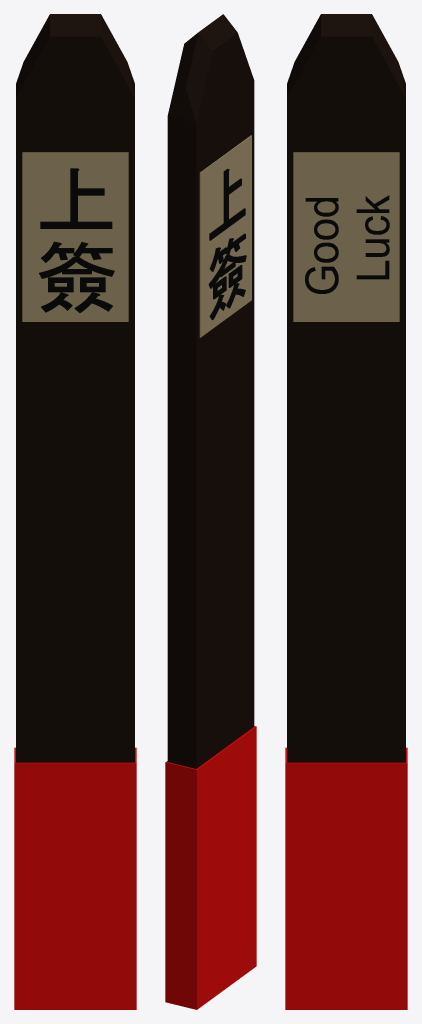
Rendered from goodLuck.fbx.
3 renders of one model, left to right at view 1: azimuth 90°, elevation 25°; view 2: azimuth 150°, elevation 25°; view 3: azimuth 270°, elevation 25°, orthographic. The views are drawn at different scales.
Parts seen in each view (by area): view 1: Line001, Box001, Box002, 加强型文本001; view 2: Line001, Box001, Box002, 加强型文本001; view 3: Line001, Box001, Box002, 加强型文本002.
Boxes of the visible parts, bbox=[...] form: Line001: bbox=[16, 14, 134, 762]; Box001: bbox=[14, 747, 136, 1009]; Box002: bbox=[22, 152, 128, 321]; 加强型文本001: bbox=[39, 168, 114, 312]; Line001: bbox=[167, 14, 254, 768]; Box001: bbox=[165, 726, 256, 1009]; Box002: bbox=[199, 135, 251, 337]; 加强型文本001: bbox=[208, 168, 246, 319]; Line001: bbox=[287, 14, 405, 762]; Box001: bbox=[285, 747, 407, 1009]; Box002: bbox=[293, 152, 399, 321]; 加强型文本002: bbox=[305, 195, 389, 293].
Bounding box in the file's own units: 2.27 × 64.1 × 7.2.
